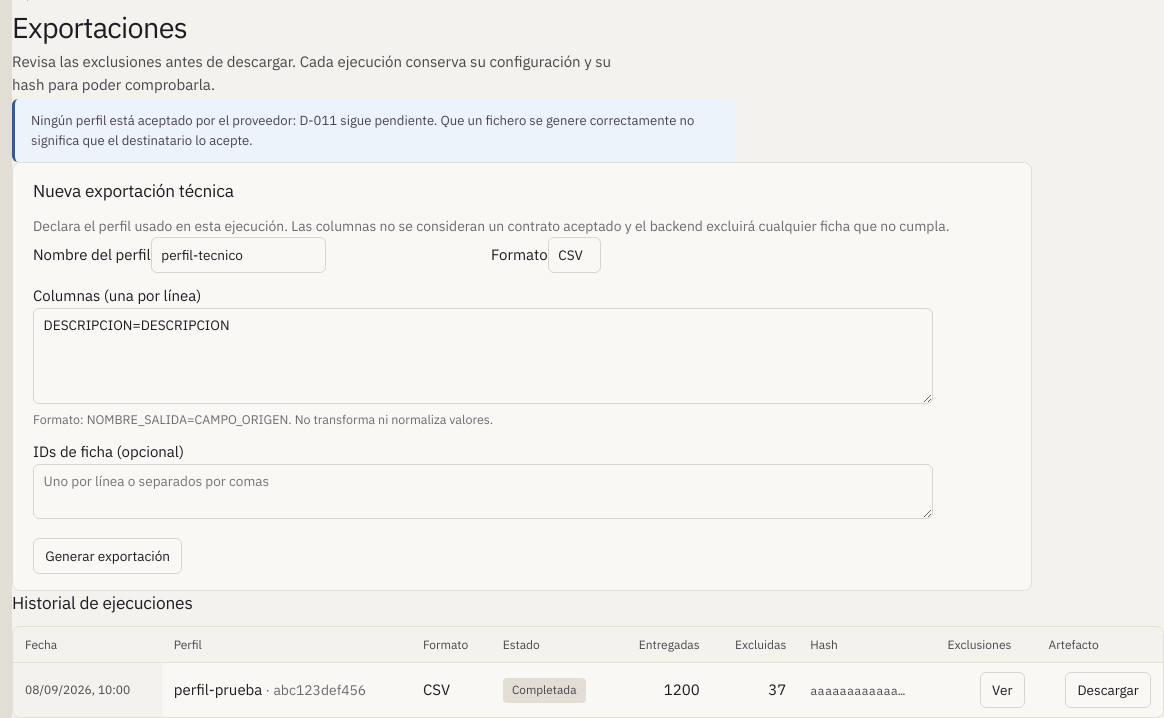
despliega las exclusiones con su regla y su motivo
(page scrolled)
What coordinates should you click on to do the following:
click the button "Ver"
I would click on:
 (1002, 690)
Its box is [980,672,1025,708].
(page scrolled)
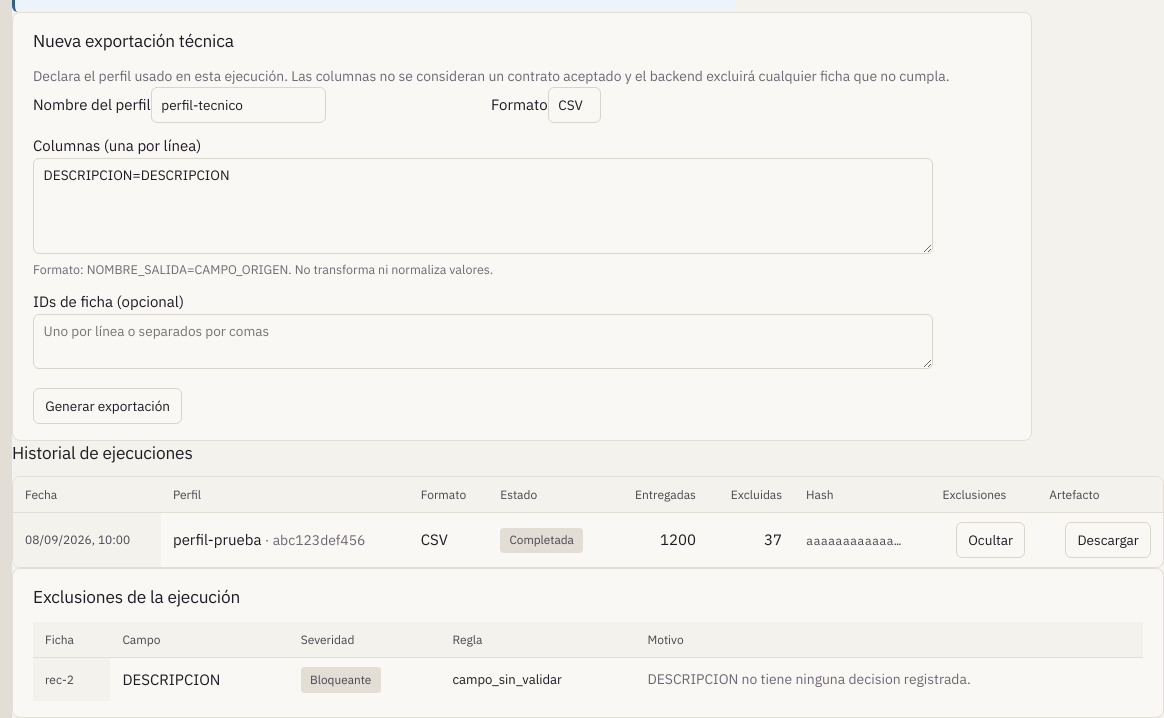
Result: the text "campo_sin_validar" is shown at [440,658,635,701]
Result: the text "Bloqueante" is shown at [301,667,381,693]
Result: the text "DESCRIPCION no tiene ninguna decision registrada." is shown at [635,658,1143,701]
